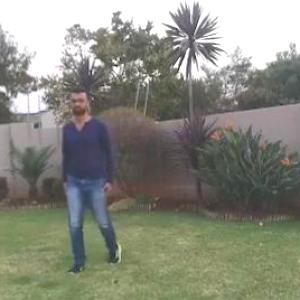follow: (61, 85, 110, 253)
